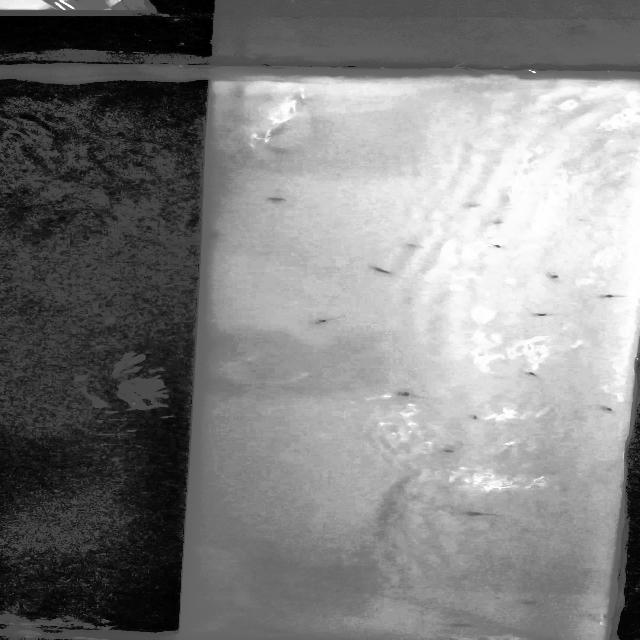shrimp: (361, 259, 406, 280), (583, 400, 627, 418), (456, 504, 494, 524), (257, 192, 303, 208), (304, 313, 338, 334), (476, 240, 514, 258), (588, 289, 632, 303), (524, 365, 553, 384), (459, 411, 492, 427), (393, 386, 418, 406), (527, 310, 568, 322), (486, 220, 525, 230), (542, 268, 564, 284)
